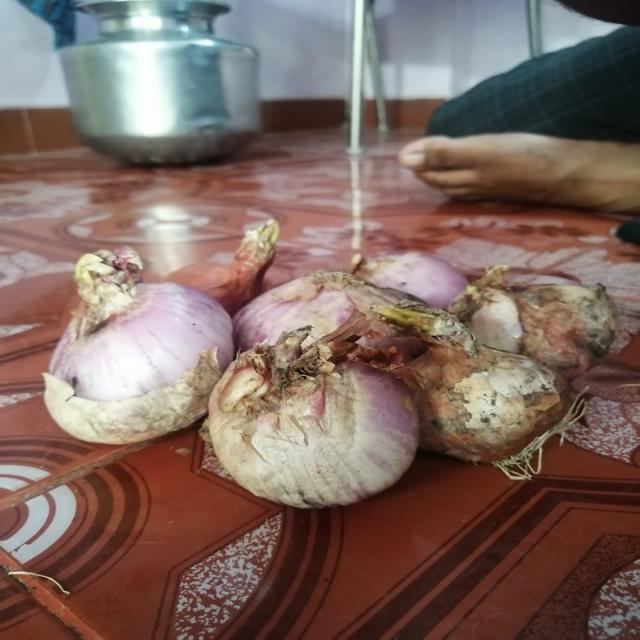rotten: (516, 289, 610, 362), (464, 382, 542, 440)
sprouting: (378, 305, 457, 347), (257, 217, 280, 267), (79, 256, 112, 286)
